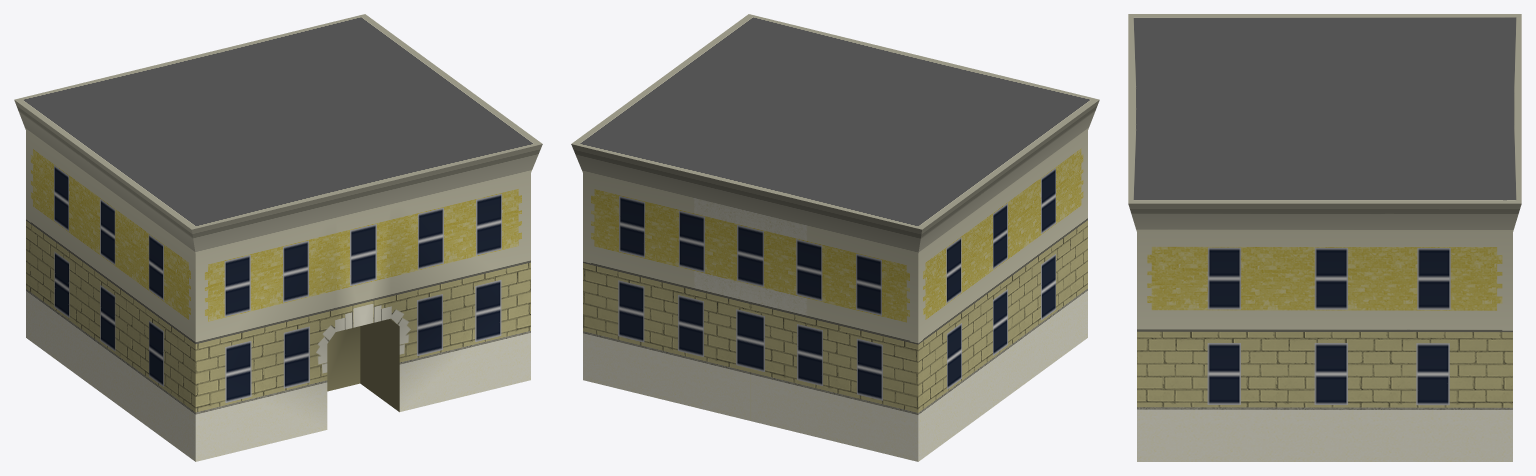
File: PoliceStation.FBX
3 renders of one model, left to right at view 1: azimuth 30°, elevation 25°; view 2: azimuth 150°, elevation 25°; view 3: azimuth 270°, elevation 25°, orthographic. The views are drawn at different scales.
Visible parts, largest first — view 1: Box001; view 2: Box001; view 3: Box001.
Boxes of the visible parts, <box> form: Box001: <box>14,14,542,461</box>; Box001: <box>571,14,1099,461</box>; Box001: <box>1128,14,1521,461</box>.
Size of the model in its own units: 63.46 by 40.94 by 55.62.
Materials: 1 (1 with a texture image).
